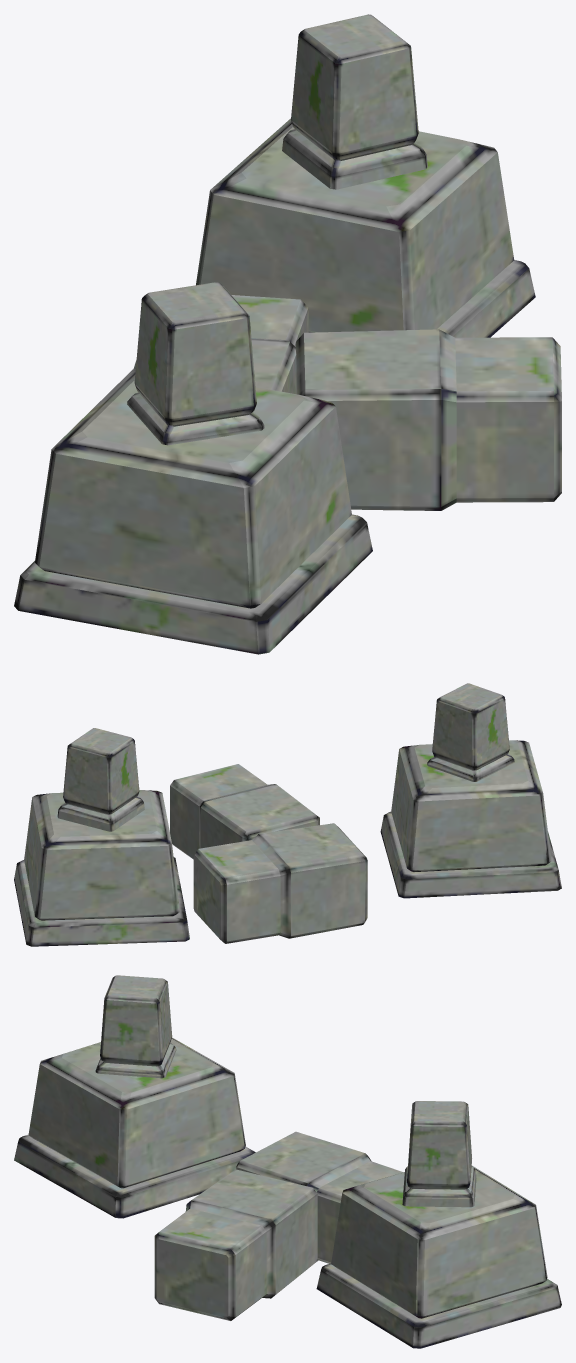
Rendered from MainCityDecor_MonsterPartner_Town.glb.
3 renders of one model, top to bottom at view 1: azimuth 30°, elevation 25°; view 2: azimuth 150°, elevation 25°; view 3: azimuth 270°, elevation 25°, orthographic. The views are drawn at different scales.
Visible parts, largest first — view 1: EnvCampsite_Detail__Stele__1__u4818903514513916791, EnvCampsite_Detail__Stele__1_1__u6585286536145060727, EnvCampsite_Detail__Stele__4_2__u7804863027936674679, EnvCampsite_Detail__Stele__3__un814749006944484489, EnvCampsite_Detail__Stele__3_1__u2061313584664462199, EnvCampsite_Detail__Stele__4__u5884979189802845047; view 2: EnvCampsite_Detail__Stele__1__u4818903514513916791, EnvCampsite_Detail__Stele__1_1__u6585286536145060727, EnvCampsite_Detail__Stele__4__u5884979189802845047, EnvCampsite_Detail__Stele__4_2__u7804863027936674679, EnvCampsite_Detail__Stele__3__un814749006944484489, EnvCampsite_Detail__Stele__3_1__u2061313584664462199; view 3: EnvCampsite_Detail__Stele__1_1__u6585286536145060727, EnvCampsite_Detail__Stele__1__u4818903514513916791, EnvCampsite_Detail__Stele__4_2__u7804863027936674679, EnvCampsite_Detail__Stele__4__u5884979189802845047, EnvCampsite_Detail__Stele__3__un814749006944484489, EnvCampsite_Detail__Stele__3_1__u2061313584664462199.
Part boxes in pixels (left/top/right/bottom): EnvCampsite_Detail__Stele__1__u4818903514513916791: left=14, top=369, right=372, bottom=654; EnvCampsite_Detail__Stele__1_1__u6585286536145060727: left=196, top=118, right=535, bottom=337; EnvCampsite_Detail__Stele__4_2__u7804863027936674679: left=296, top=329, right=561, bottom=510; EnvCampsite_Detail__Stele__3__un814749006944484489: left=282, top=14, right=427, bottom=189; EnvCampsite_Detail__Stele__3_1__u2061313584664462199: left=127, top=282, right=264, bottom=445; EnvCampsite_Detail__Stele__4__u5884979189802845047: left=133, top=295, right=308, bottom=393; EnvCampsite_Detail__Stele__1__u4818903514513916791: left=380, top=740, right=561, bottom=898; EnvCampsite_Detail__Stele__1_1__u6585286536145060727: left=14, top=790, right=189, bottom=946; EnvCampsite_Detail__Stele__4__u5884979189802845047: left=193, top=823, right=367, bottom=943; EnvCampsite_Detail__Stele__4_2__u7804863027936674679: left=170, top=764, right=319, bottom=859; EnvCampsite_Detail__Stele__3__un814749006944484489: left=57, top=728, right=144, bottom=831; EnvCampsite_Detail__Stele__3_1__u2061313584664462199: left=427, top=683, right=514, bottom=781; EnvCampsite_Detail__Stele__1_1__u6585286536145060727: left=316, top=1165, right=561, bottom=1348; EnvCampsite_Detail__Stele__1__u4818903514513916791: left=14, top=1037, right=255, bottom=1218; EnvCampsite_Detail__Stele__4_2__u7804863027936674679: left=154, top=1169, right=317, bottom=1320; EnvCampsite_Detail__Stele__4__u5884979189802845047: left=236, top=1131, right=403, bottom=1263; EnvCampsite_Detail__Stele__3__un814749006944484489: left=402, top=1101, right=476, bottom=1207; EnvCampsite_Detail__Stele__3_1__u2061313584664462199: left=95, top=975, right=176, bottom=1078.
Size of the model in its own units: 4.07 by 1.69 by 4.13.
Materials: 1 (1 with a texture image).
